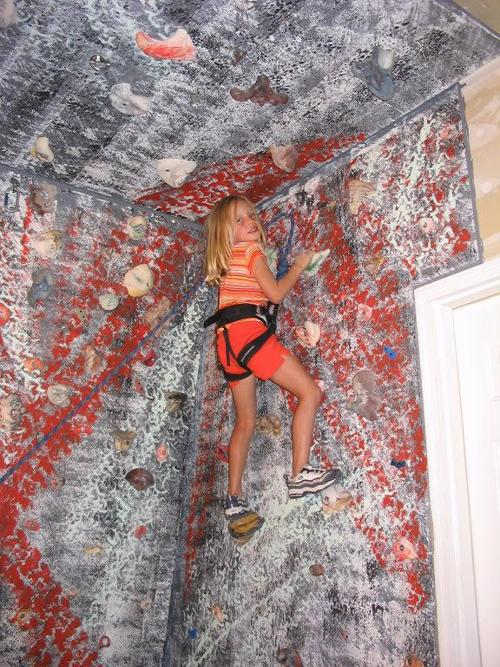person: (205, 193, 335, 516)
